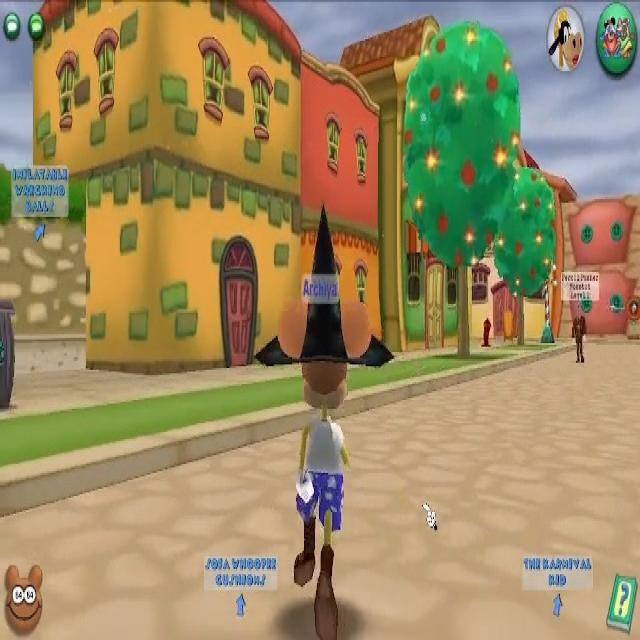pencilpusher: (562, 274, 600, 372)
